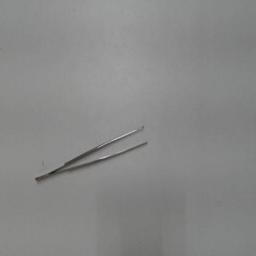Gillies Toothed Dissector: (33, 120, 151, 186)
